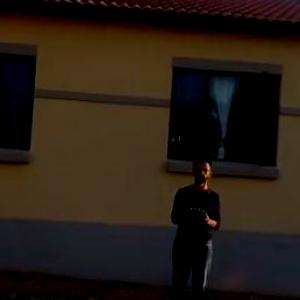follow: (164, 150, 226, 299)
